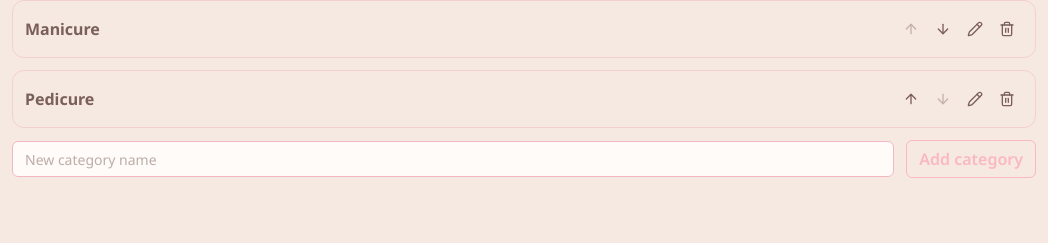
Test: CategoryPanel › needs two clicks to delete and shows the server's 409 message
This screenshot has width=1048, height=243.
Click the button named "delete manicure" at (1007, 29), box x1=991 y1=13 x2=1023 y2=45
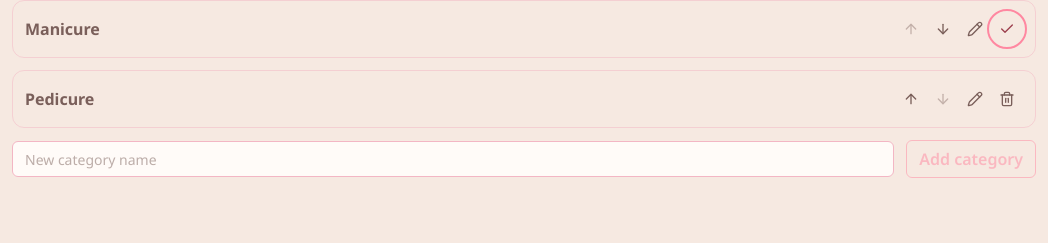
Click the button named "confirm delete manicure" at (1007, 29), box x1=991 y1=13 x2=1023 y2=45
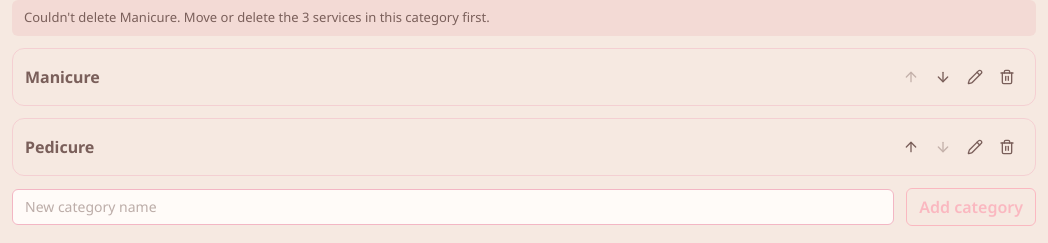
Check: the message reads "Couldn't delete Manicure. Move or delete the 3 services in this category first.", box x1=24 y1=8 x2=490 y2=26
